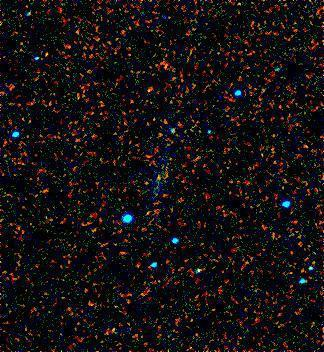star: (144, 170, 174, 200)
